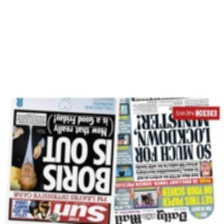news_paper: (4, 95, 119, 223), (101, 97, 217, 222)
